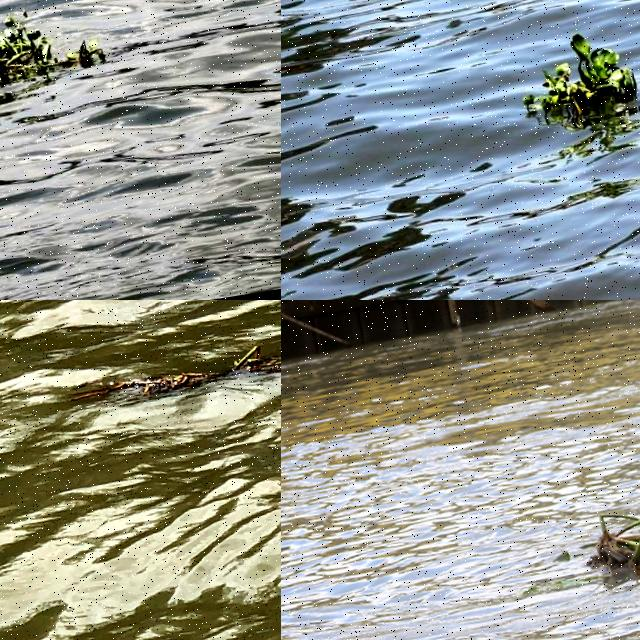water-hyacinth: (519, 30, 640, 137), (1, 1, 106, 100), (576, 509, 640, 592)
